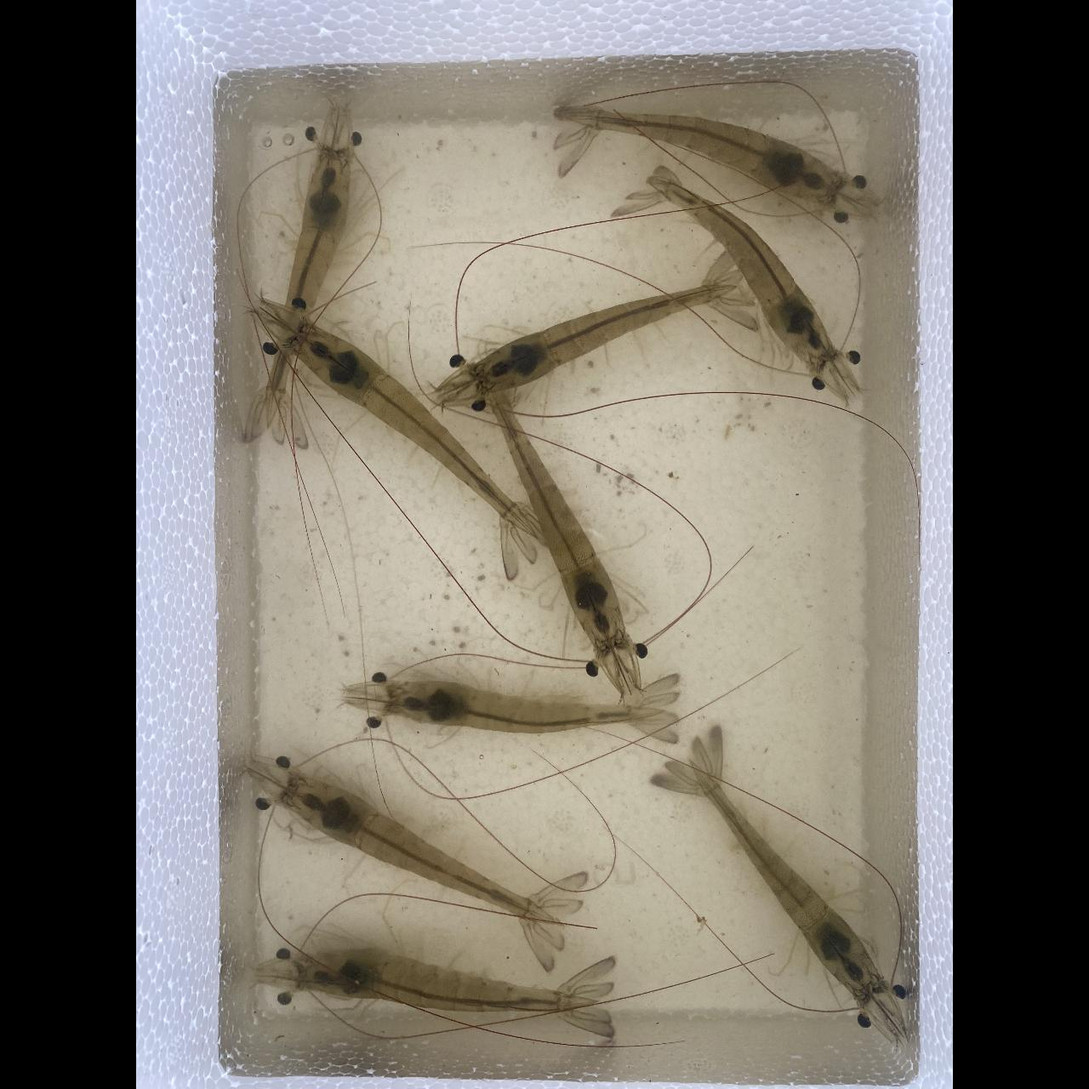top_shrimp: (294, 328, 531, 534), (689, 764, 875, 994), (286, 779, 560, 921), (490, 391, 623, 643), (660, 180, 832, 364), (476, 284, 721, 386), (565, 109, 835, 197), (298, 946, 596, 1014), (281, 150, 349, 393), (383, 681, 664, 732)
